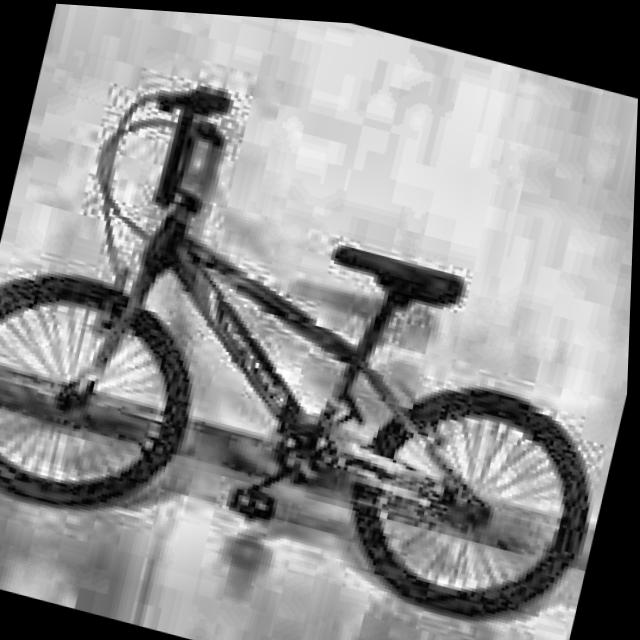motorcycle: (0, 25, 639, 640)
